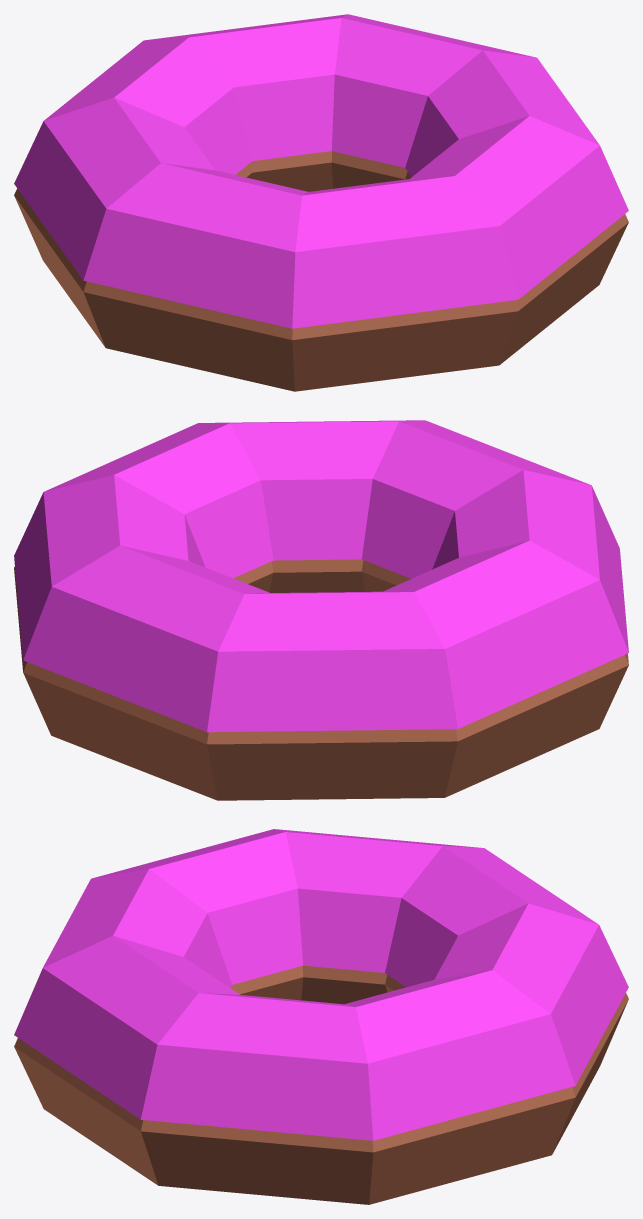
The model's file is HealthDonut.fbx.
The picture shows the model from 3 angles, top to bottom: view 1: azimuth 30°, elevation 25°; view 2: azimuth 150°, elevation 25°; view 3: azimuth 270°, elevation 25°; orthographic projection. The views are drawn at different scales.
Parts seen in each view (by area): view 1: Dough; view 2: Dough; view 3: Dough.
Part boxes in pixels (bbox=[...]): Dough: bbox=[14, 14, 628, 391]; Dough: bbox=[14, 420, 628, 800]; Dough: bbox=[14, 829, 628, 1204].
Size of the model in its own units: 146 by 51.73 by 146.
